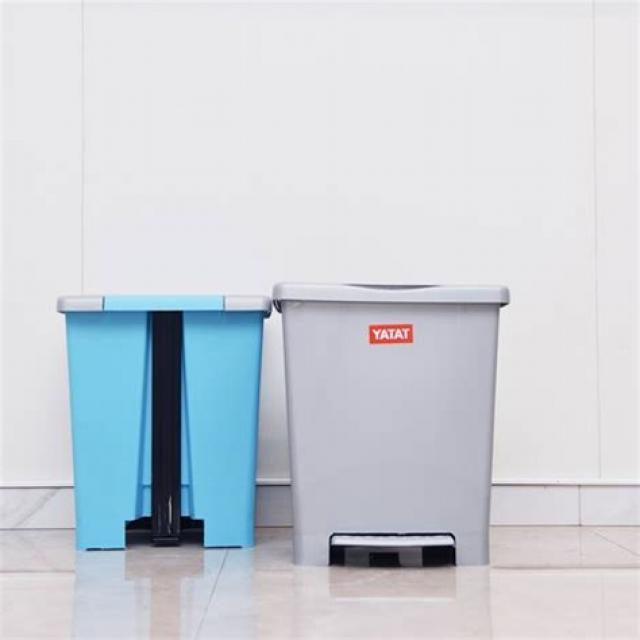garbage container: (269, 248, 543, 580), (45, 274, 275, 559)
